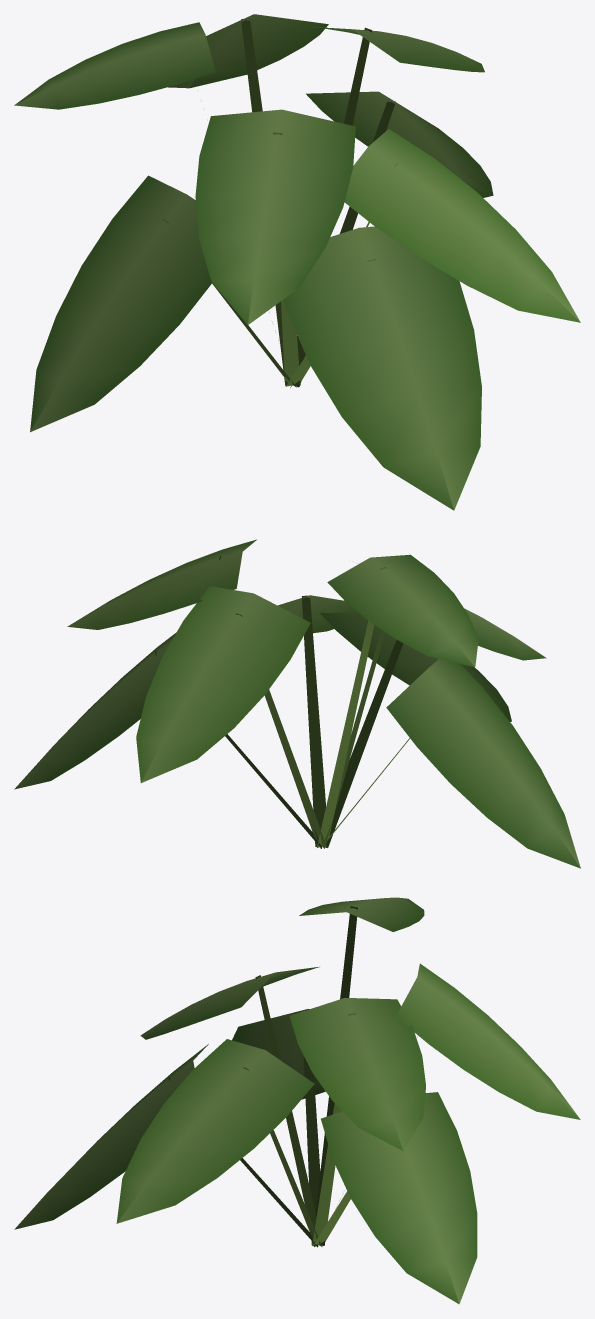
File: shrub.elephant_ear.green.glb
The picture shows the model from 3 angles, top to bottom: view 1: azimuth 30°, elevation 25°; view 2: azimuth 150°, elevation 25°; view 3: azimuth 270°, elevation 25°; orthographic projection. The views are drawn at different scales.
Visible parts, largest first — view 1: shrub_elephant_ear_green; view 2: shrub_elephant_ear_green; view 3: shrub_elephant_ear_green.
Boxes of the visible parts, x1,y1,x2,y2 form: shrub_elephant_ear_green: (14,14,580,510); shrub_elephant_ear_green: (14,539,580,868); shrub_elephant_ear_green: (14,897,580,1304).
Size of what is drawn, in the model's own units: 1.98 by 1.24 by 2.1.
